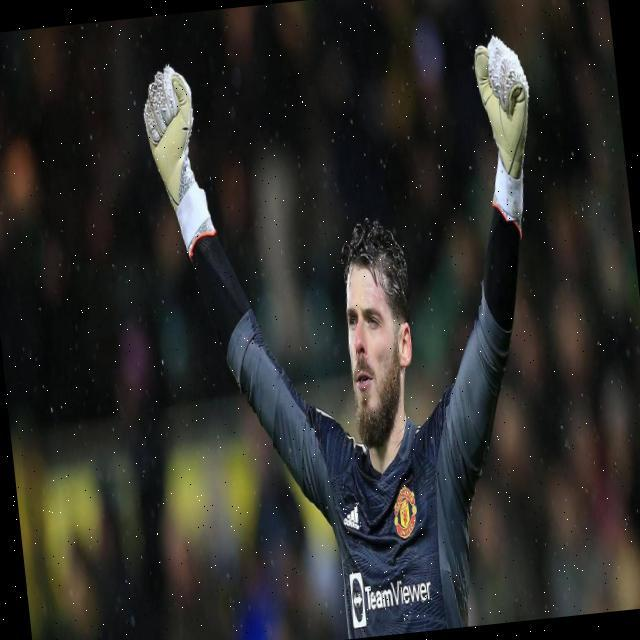Adidas: (342, 500, 362, 535)
TeamViewer: (348, 564, 435, 629)
